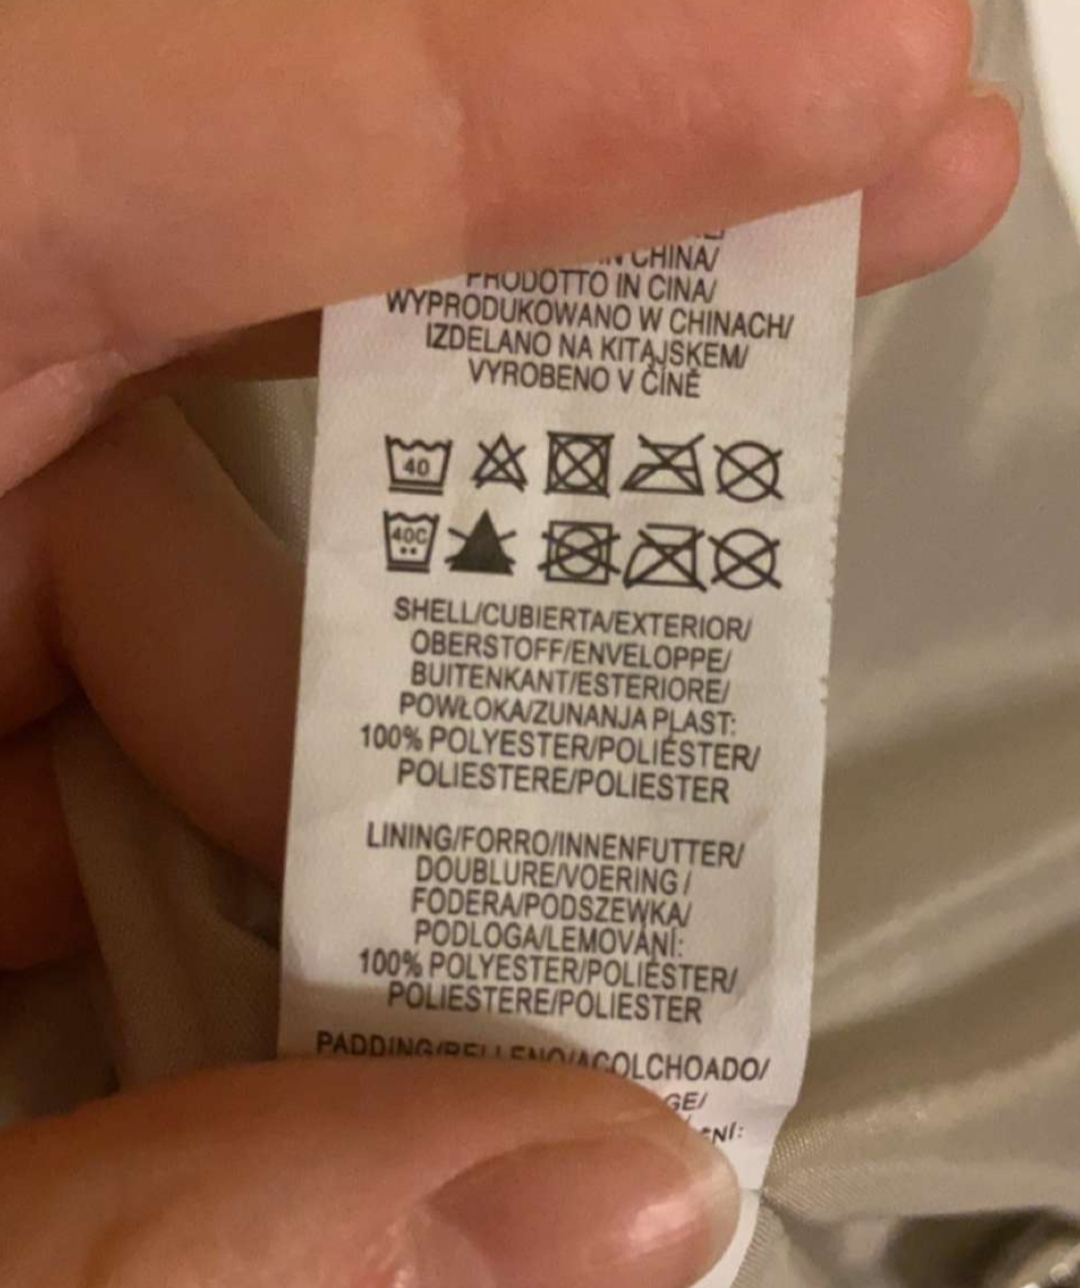do not bleach: (467, 424, 546, 503)
do not dry clean: (712, 439, 798, 513)
do not iron: (621, 426, 696, 516)
do not tumble dry: (545, 426, 622, 503)
wash at or below 40: (362, 421, 472, 506)
